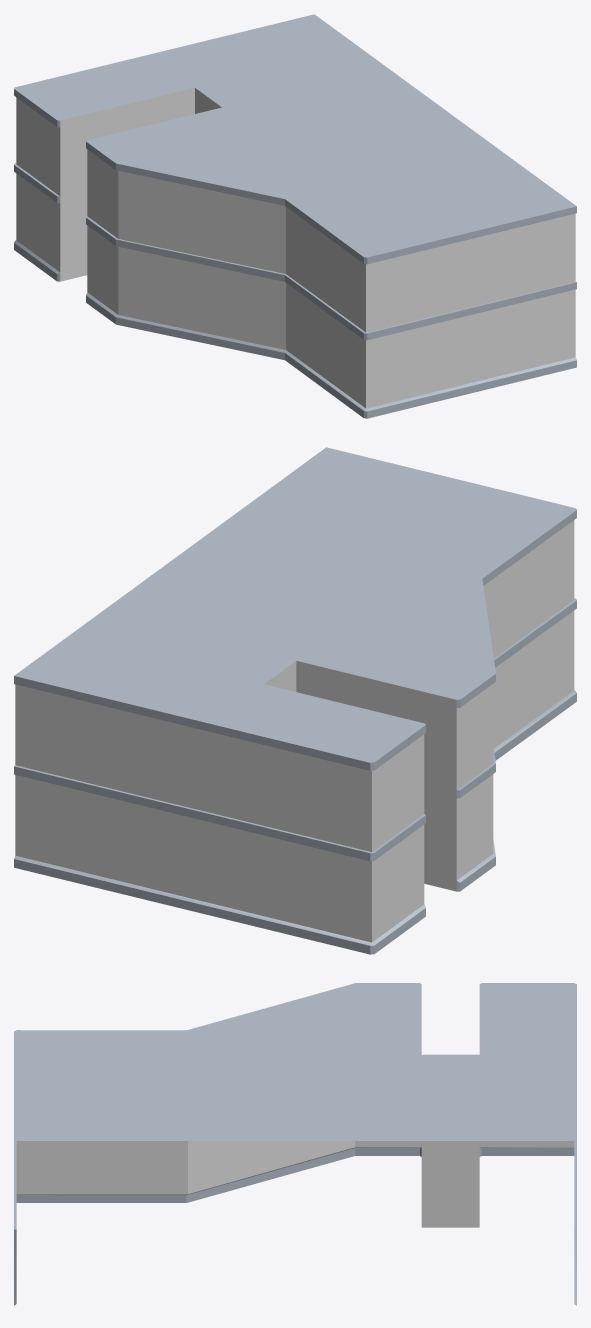
Rendered from CEON_BLOC_C.glb.
The picture shows the model from 3 angles, top to bottom: view 1: azimuth 30°, elevation 25°; view 2: azimuth 150°, elevation 25°; view 3: azimuth 270°, elevation 25°; orthographic projection. The views are drawn at different scales.
Parts seen in each view (by area): view 1: BUILDING C; view 2: BUILDING C; view 3: BUILDING C.
Boxes of the visible parts, <box> form: BUILDING C: <box>14,14,576,418</box>; BUILDING C: <box>14,447,576,954</box>; BUILDING C: <box>14,983,576,1305</box>.
Bounding box in the file's own units: 13.93 × 7.11 × 20.98.
